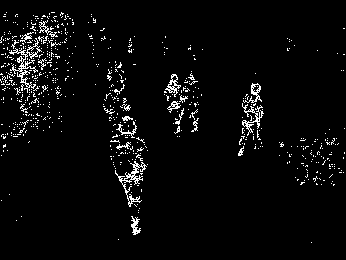person: (109, 116, 149, 236), (236, 79, 264, 160), (103, 59, 133, 118), (181, 68, 204, 134), (164, 73, 186, 138)
